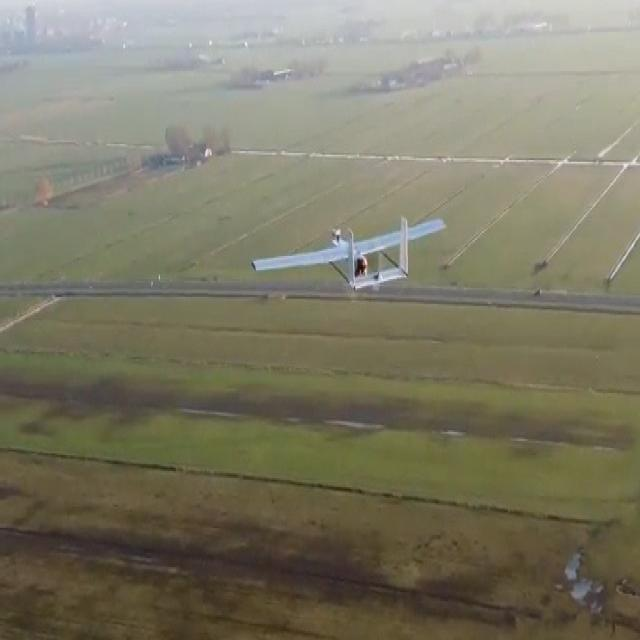iha: (249, 230, 447, 278)
